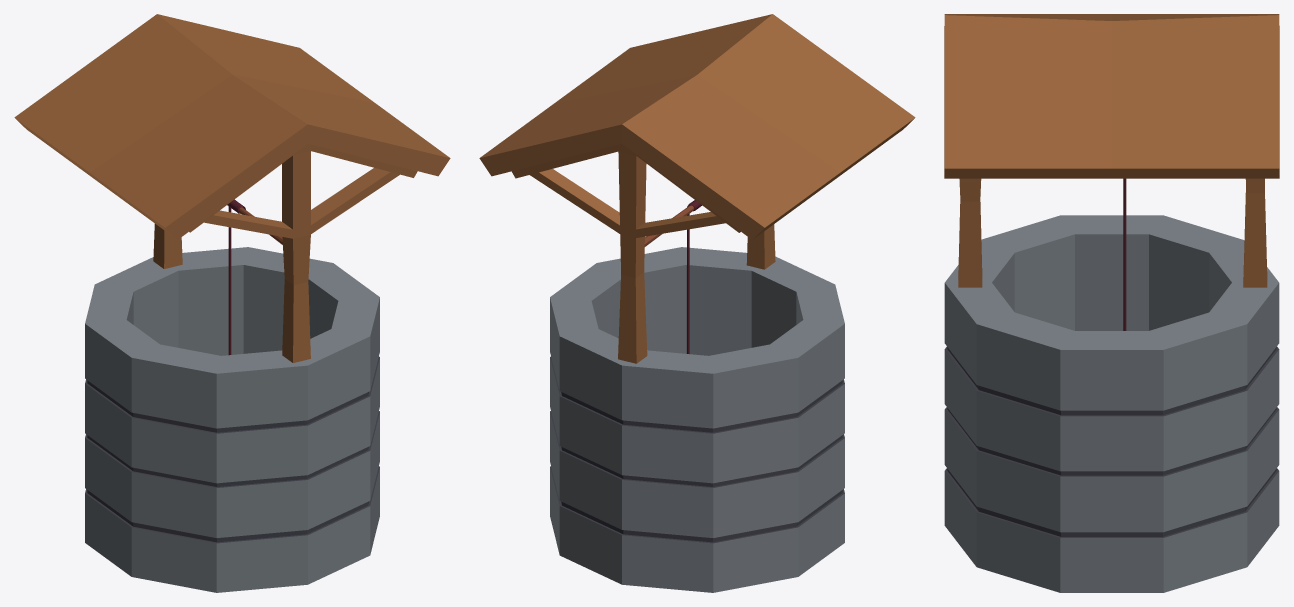
Rendered from Well.fbx.
3 renders of one model, left to right at view 1: azimuth 30°, elevation 25°; view 2: azimuth 150°, elevation 25°; view 3: azimuth 270°, elevation 25°, orthographic. The views are drawn at different scales.
Parts seen in each view (by area): view 1: Well; view 2: Well; view 3: Well.
Boxes of the visible parts, x1,y1,x2,y2 form: Well: [14, 14, 450, 592]; Well: [479, 14, 915, 592]; Well: [944, 14, 1279, 592].
Size of the model in its own units: 121 by 186 by 111.
